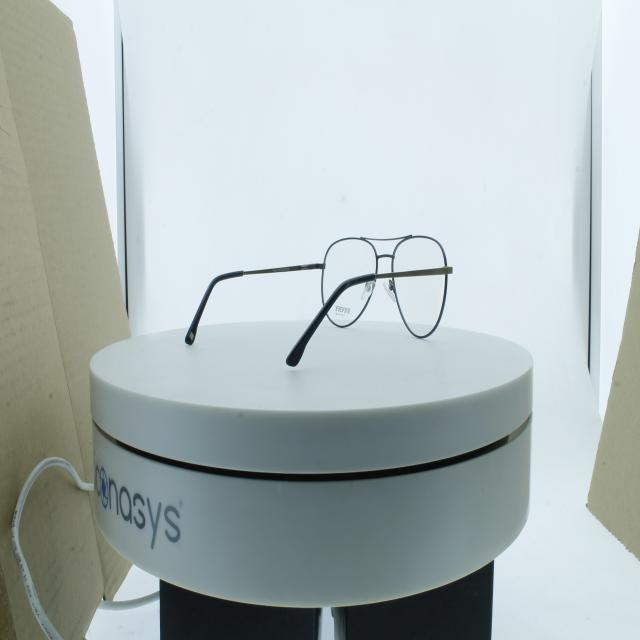Specs: (178, 191, 469, 400)
